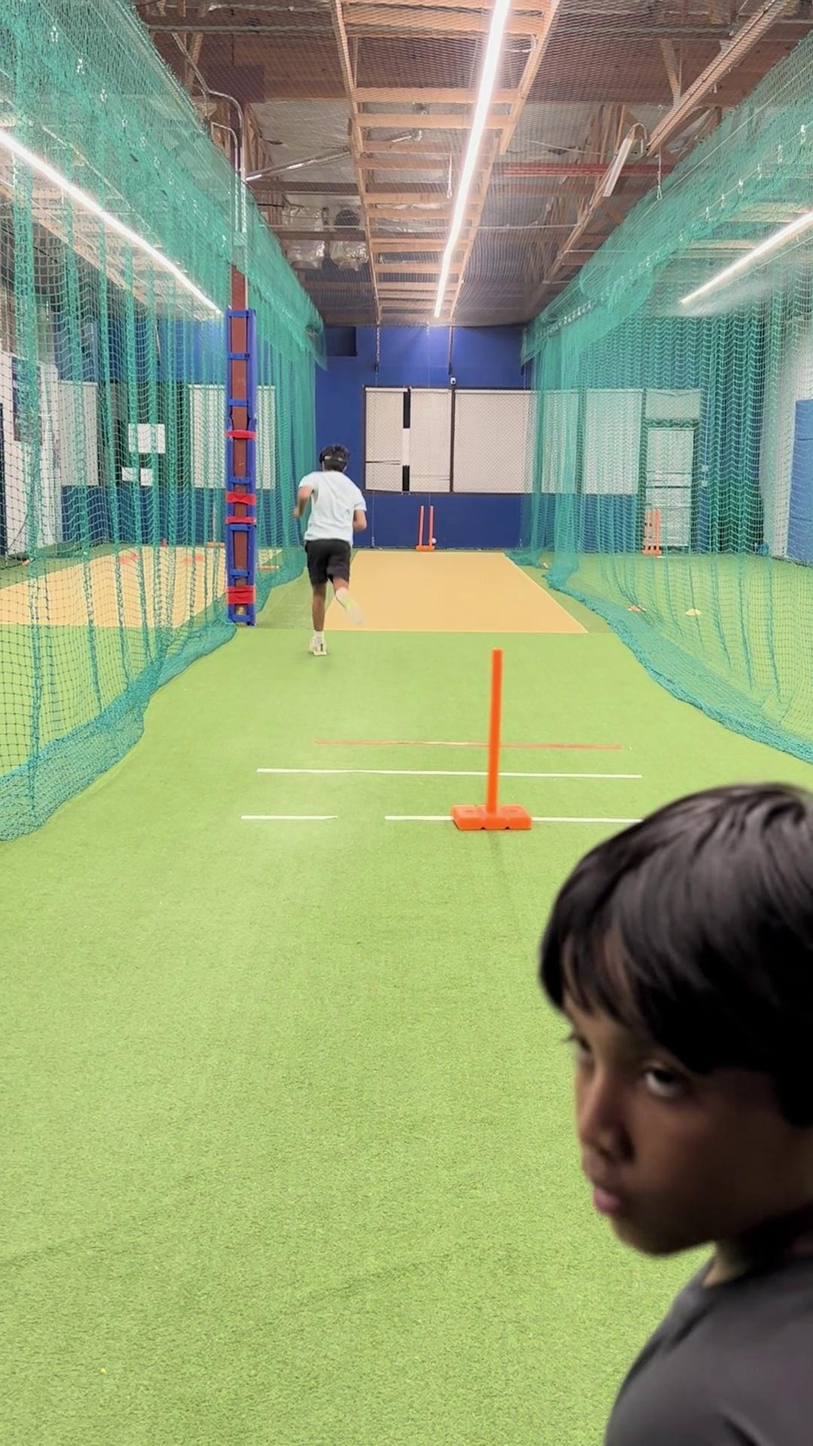ball: (427, 535, 438, 545)
